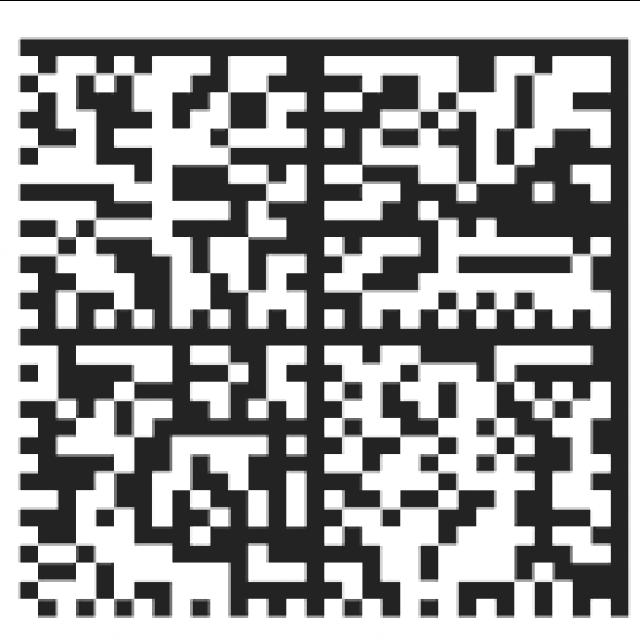DataMatrix: (9, 30, 640, 629)
